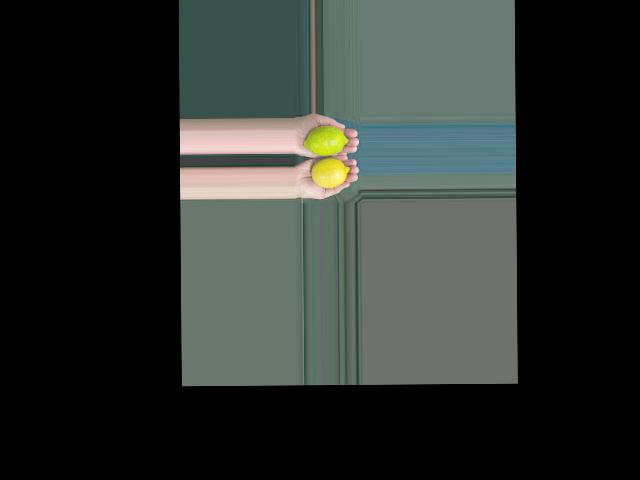lemon: (309, 157, 349, 187)
